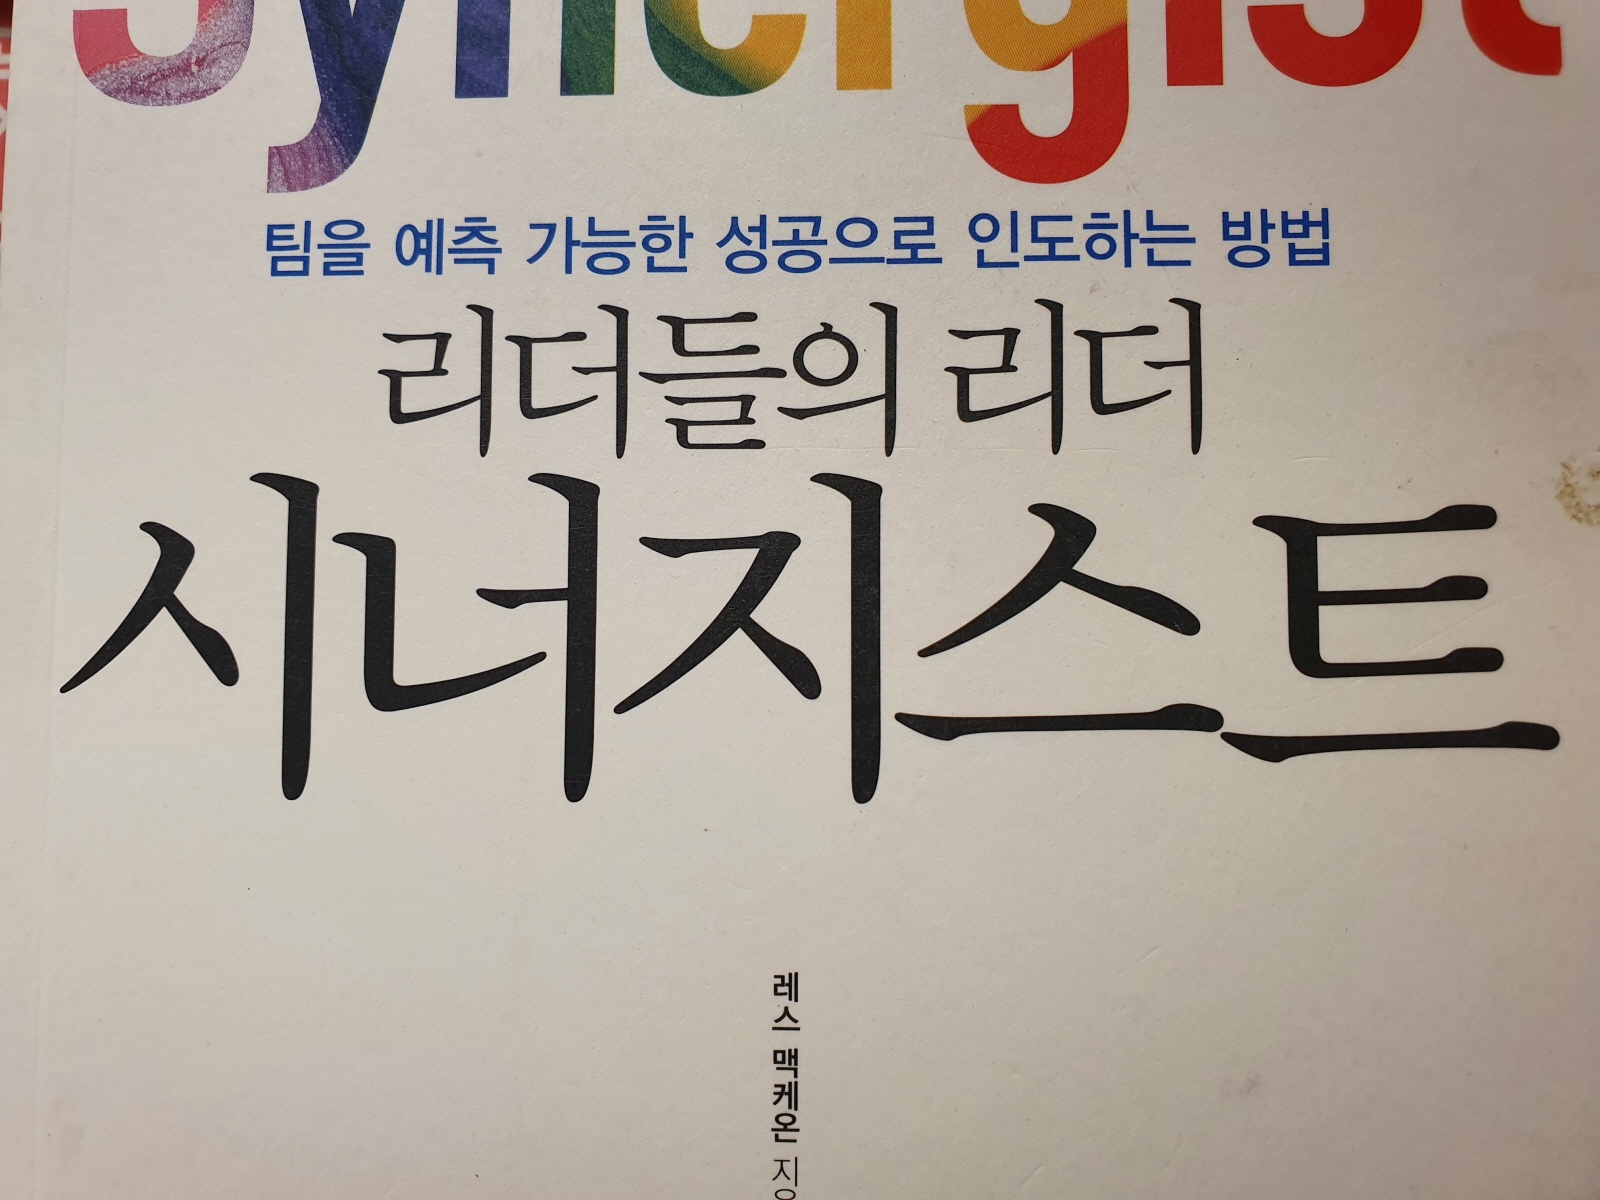text: (42, 468, 1588, 840), (331, 293, 1243, 466), (249, 202, 1373, 287), (764, 950, 822, 1199)
